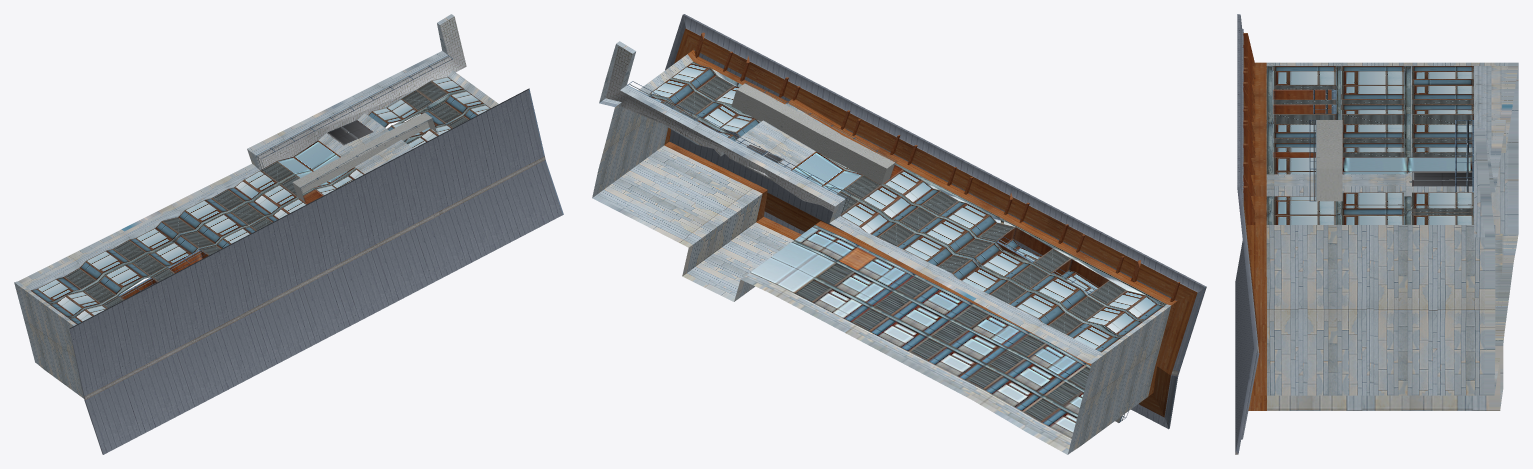
The model's file is Wismari_5-origo.obj.
3 views of the same model, side by side, from view 1: azimuth 30°, elevation 25°; view 2: azimuth 150°, elevation 25°; view 3: azimuth 270°, elevation 25° (orthographic). The views are drawn at different scales.
Visible parts, largest first — view 1: Wismari_5; view 2: Wismari_5; view 3: Wismari_5.
Boxes of the visible parts, x1,y1,x2,y2 form: Wismari_5: (14,14,563,454); Wismari_5: (592,14,1206,454); Wismari_5: (1235,14,1518,454).
Size of the model in its own units: 48.44 by 27 by 13.44.
Materials: 2 (2 with a texture image).
